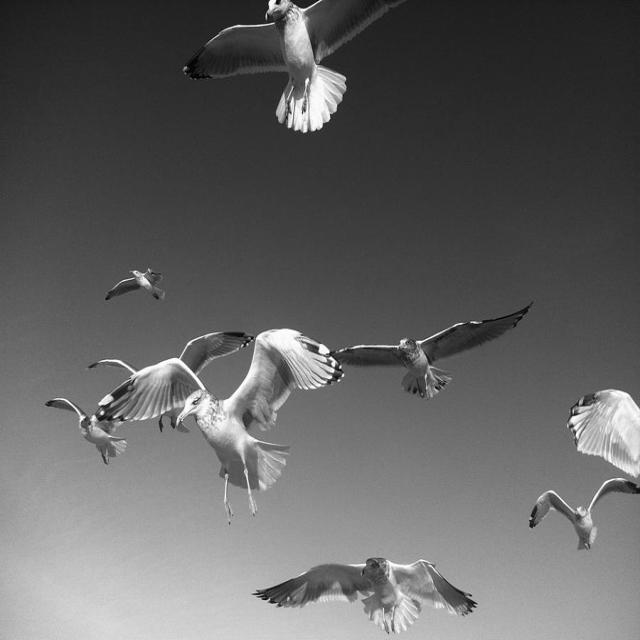bird: (74, 326, 338, 524), (168, 0, 417, 138), (346, 290, 546, 390), (248, 558, 481, 640), (562, 389, 640, 491), (530, 483, 637, 554), (41, 394, 132, 466), (106, 272, 162, 302)
